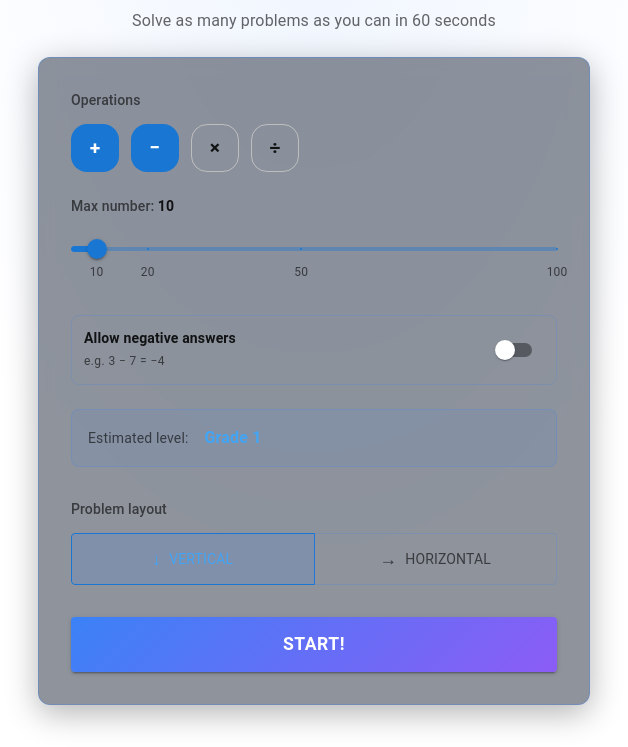
Scenario: MinuteMath page – answering problems › answering incorrectly increments wrong count
(page scrolled)
Click the button "Start!" at (314, 645), box [71,617,557,672]
(page scrolled)
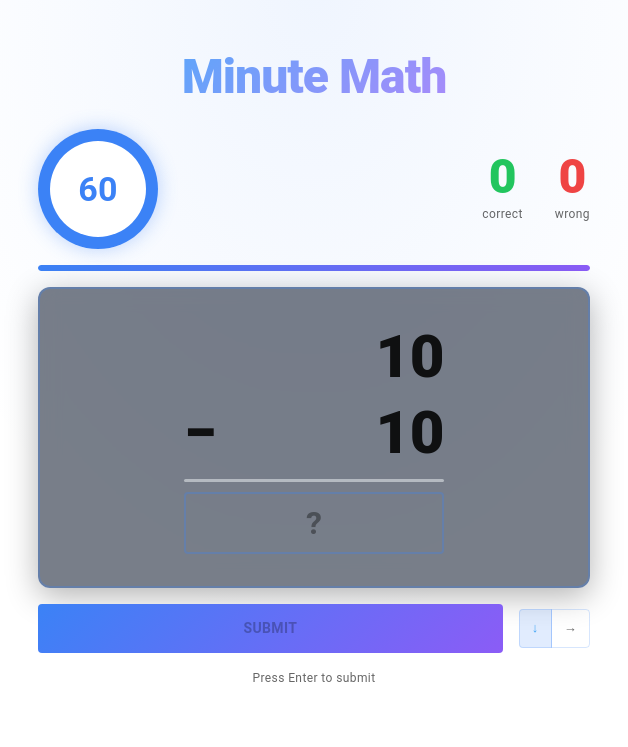
Type "99" into the field named "answer input" at (314, 523), box [184,492,444,554]
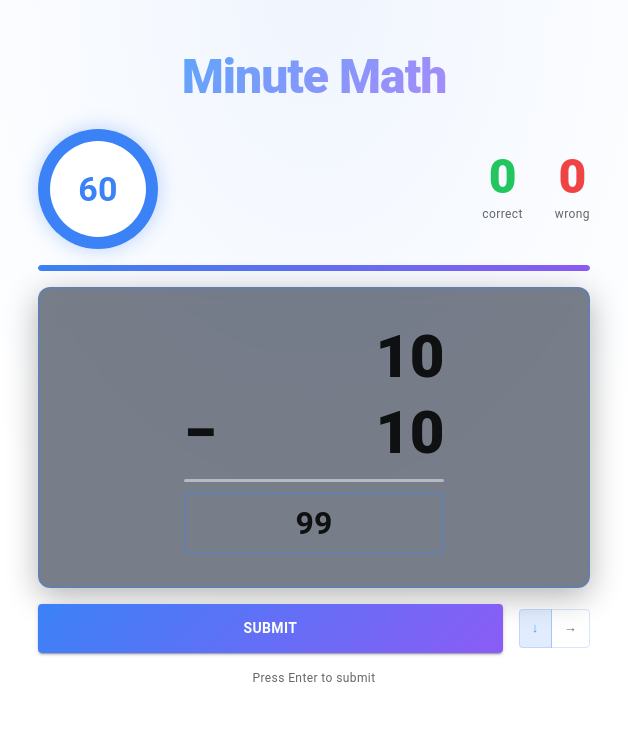
Press Enter in the field named "answer input", box [184,492,444,554]
Wait 400 ms
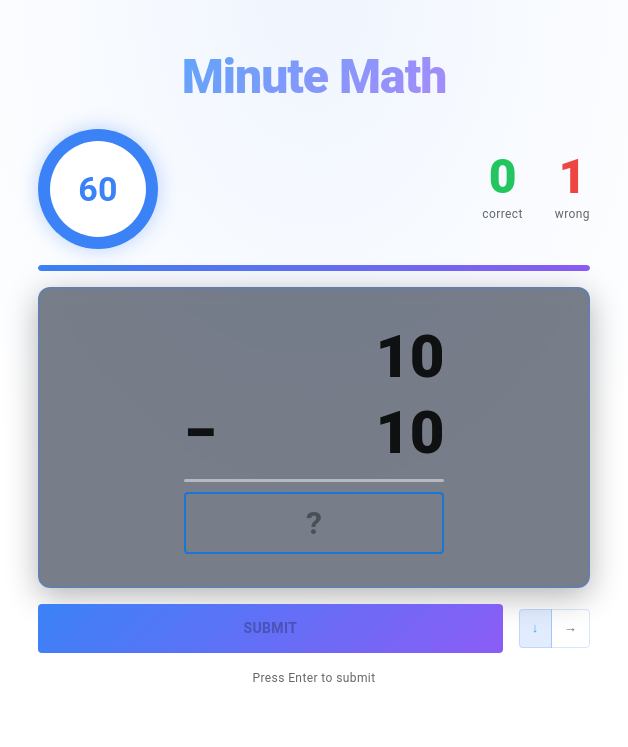
expect the heading named "wrong count" reads "1": met, box [558,148,586,205]
